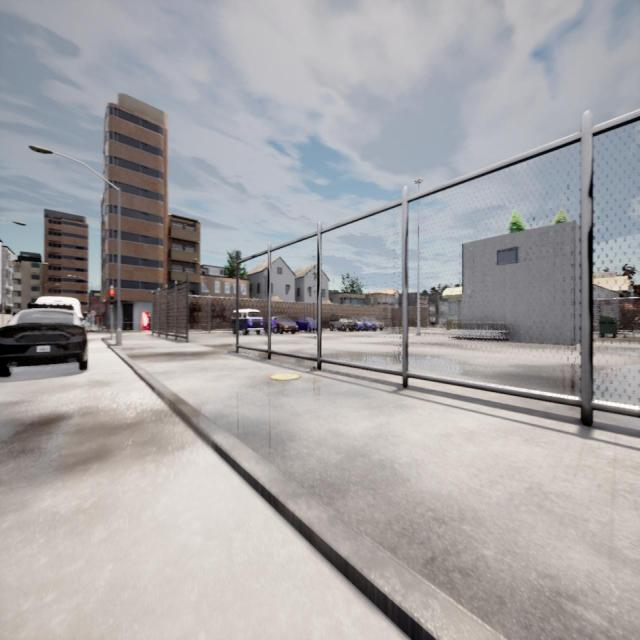Traffic_Signs: (90, 310, 95, 316)
Vehicle: (0, 296, 87, 373), (232, 309, 263, 333), (265, 316, 297, 334), (296, 316, 321, 332), (330, 315, 354, 331), (356, 316, 376, 332), (368, 317, 385, 330)
traffic_light: (109, 288, 115, 304)
